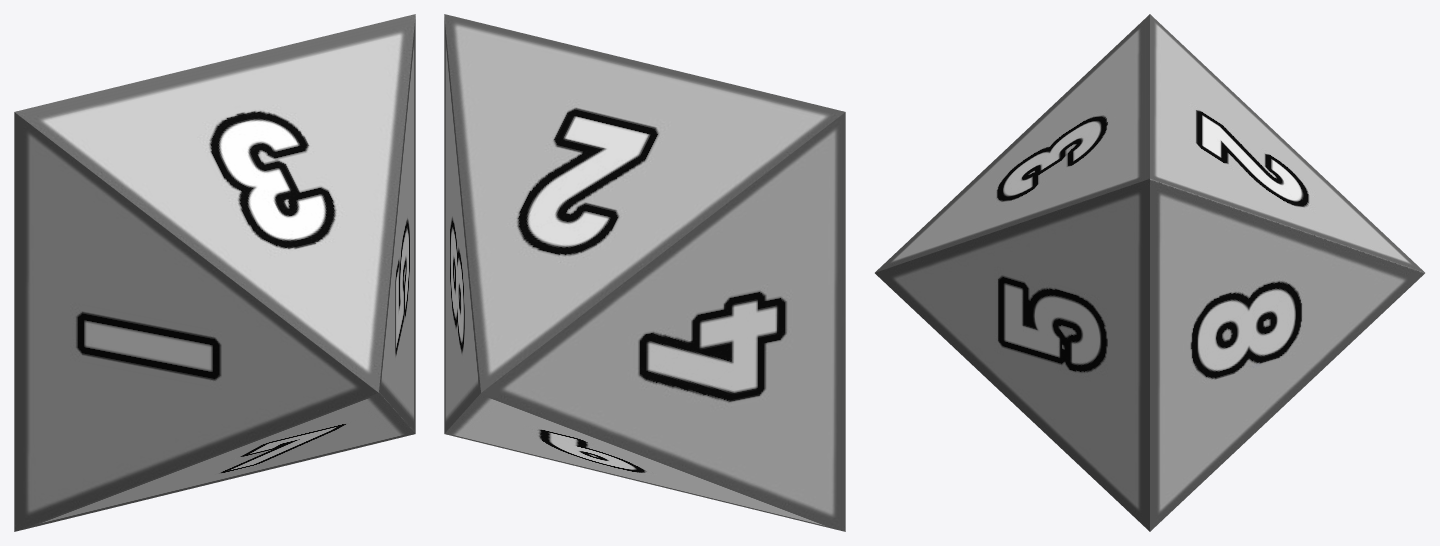
3 renders of one model, left to right at view 1: azimuth 30°, elevation 25°; view 2: azimuth 150°, elevation 25°; view 3: azimuth 270°, elevation 25°, orthographic. The views are drawn at different scales.
Parts seen in each view (by area): view 1: Hedra01; view 2: Hedra01; view 3: Hedra01.
Boxes of the visible parts, left/top/right/bottom form: Hedra01: left=14, top=14, right=415, bottom=531; Hedra01: left=444, top=14, right=845, bottom=531; Hedra01: left=875, top=14, right=1424, bottom=531.
Bounding box in the file's own units: 0.2116 × 0.2116 × 0.2992.
Materials: 1 (1 with a texture image).
